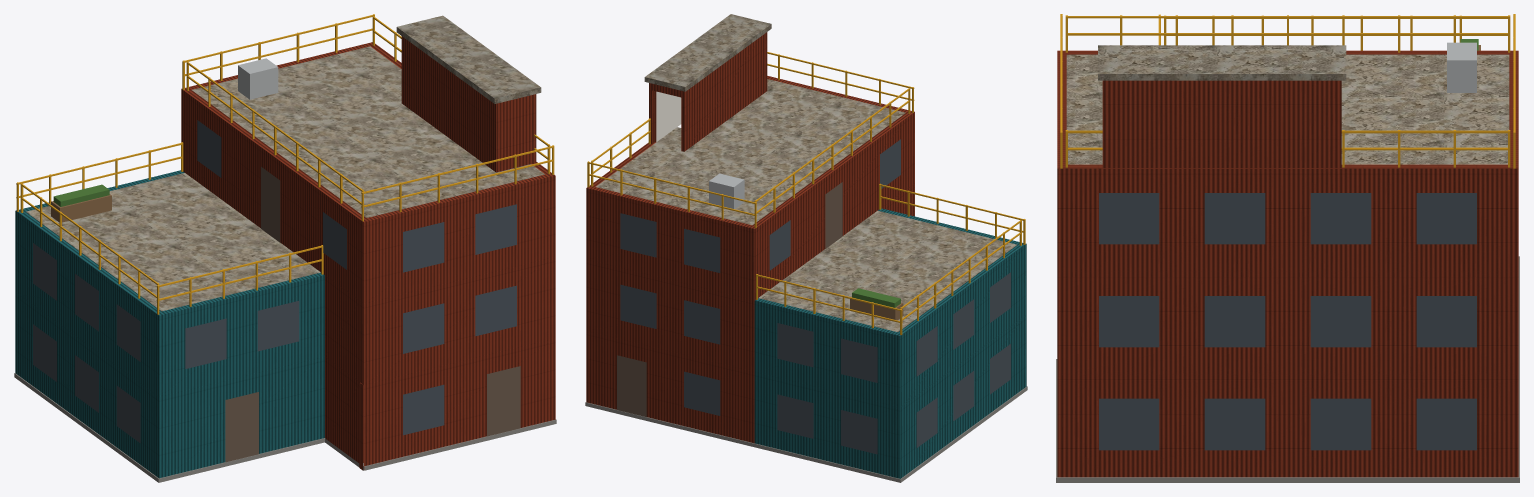
The model's file is mh-container-flats.zfix-v22.lod1.glb.
The picture shows the model from 3 angles, left to right: view 1: azimuth 30°, elevation 25°; view 2: azimuth 150°, elevation 25°; view 3: azimuth 270°, elevation 25°; orthographic projection. The views are drawn at different scales.
Visible parts, largest first — view 1: mh-container-flats; view 2: mh-container-flats; view 3: mh-container-flats.
Boxes of the visible parts, x1,y1,x2,y2 form: mh-container-flats: (14, 14, 556, 482); mh-container-flats: (585, 14, 1027, 482); mh-container-flats: (1056, 14, 1519, 482).
Size of the model in its own units: 13.9 by 11.95 by 12.26.
Materials: 3 (2 with a texture image).
